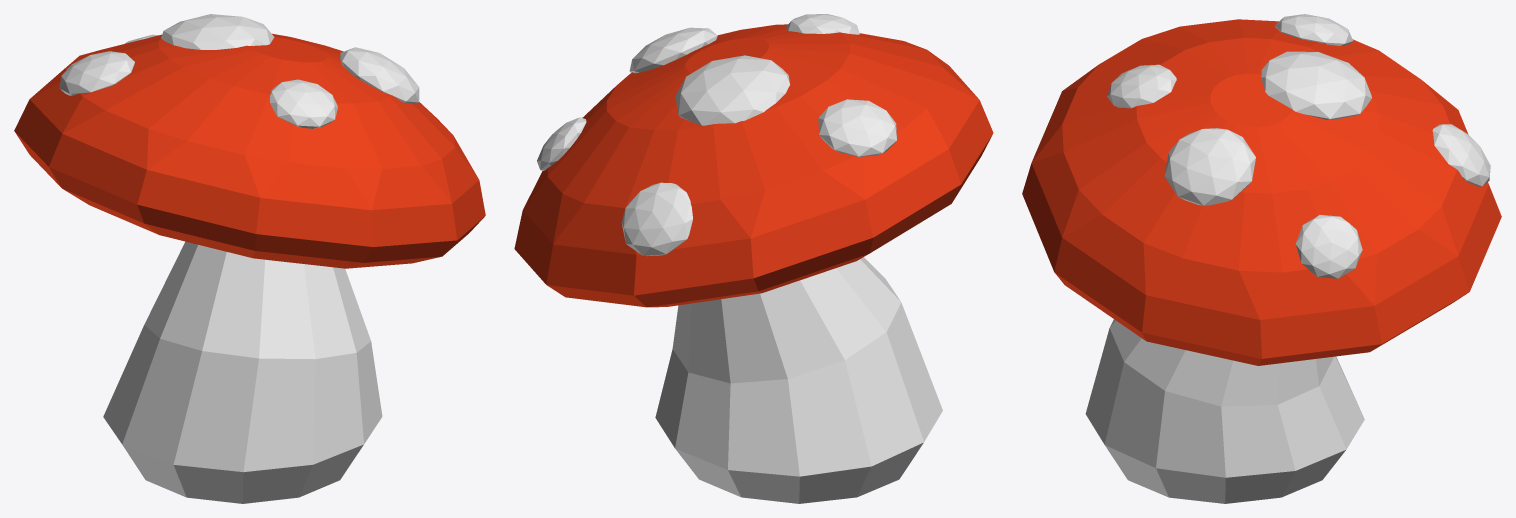
Rendered from svamp.fbx.
3 views of the same model, side by side, from view 1: azimuth 30°, elevation 25°; view 2: azimuth 150°, elevation 25°; view 3: azimuth 270°, elevation 25° (orthographic). The views are drawn at different scales.
Parts seen in each view (by area): view 1: hoved, svamp, Icosphere.001, Icosphere, Icosphere.002, Icosphere.005; view 2: hoved, svamp, Icosphere.001, Icosphere.004, Icosphere.005, Icosphere.002, Icosphere.003, Icosphere; view 3: hoved, svamp, Icosphere.001, Icosphere.002, Icosphere.003, Icosphere, Icosphere.004, Icosphere.005.
Part boxes in pixels (x1,y1,x2,y2): hoved: (14, 33, 485, 268); svamp: (103, 241, 382, 503); Icosphere.001: (161, 14, 274, 49); Icosphere: (270, 79, 337, 128); Icosphere.002: (340, 47, 419, 104); Icosphere.005: (59, 51, 134, 95); hoved: (514, 24, 993, 307); svamp: (655, 257, 942, 503); Icosphere.001: (675, 55, 789, 125); Icosphere.004: (621, 182, 692, 256); Icosphere.005: (818, 99, 896, 156); Icosphere.002: (629, 27, 717, 73); Icosphere.003: (537, 117, 586, 170); Icosphere: (786, 14, 859, 34); hoved: (1022, 19, 1501, 365); svamp: (1085, 319, 1364, 503); Icosphere.001: (1261, 51, 1371, 119); Icosphere.002: (1164, 128, 1255, 205); Icosphere.003: (1295, 215, 1362, 278); Icosphere: (1107, 64, 1176, 108); Icosphere.004: (1432, 124, 1490, 186); Icosphere.005: (1275, 14, 1353, 45).
Bounding box in the file's own units: 276 × 263 × 285.
